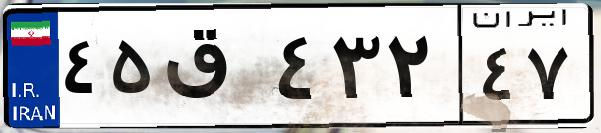2: (385, 28, 445, 110)
3: (330, 28, 385, 110)
4: (270, 28, 330, 110), (57, 26, 110, 100), (475, 38, 525, 113)
5: (110, 28, 158, 98)
7: (525, 38, 570, 115)
ق: (158, 20, 270, 120)
